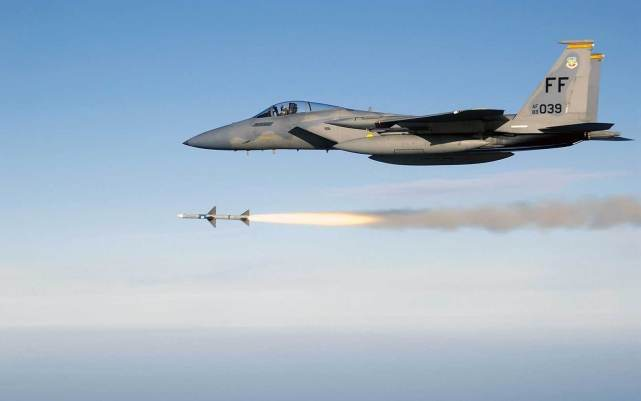airplane: (180, 33, 618, 172)
